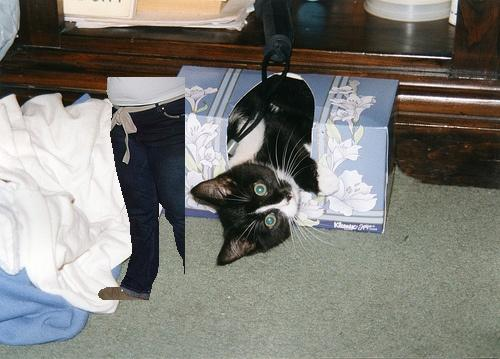tampered: (99, 78, 185, 300)
